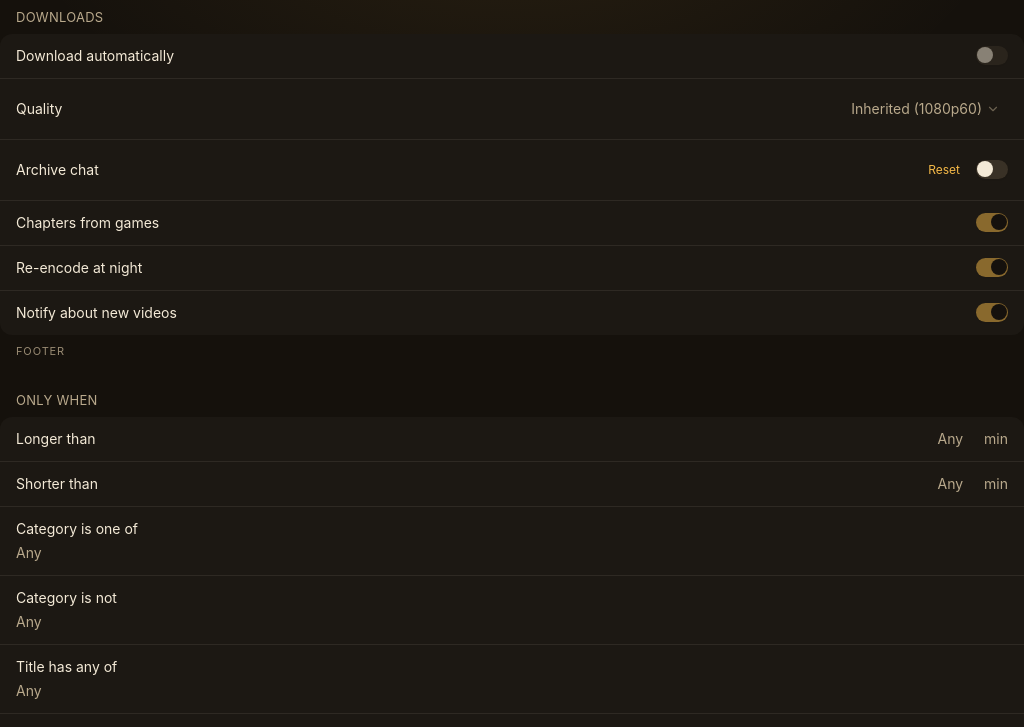
it: PolicyEditor › offers Reset only on a field this layer overrides, and clears it
Click the button "Reset" at coordinates (944, 170), box 924,152 -> 964,188
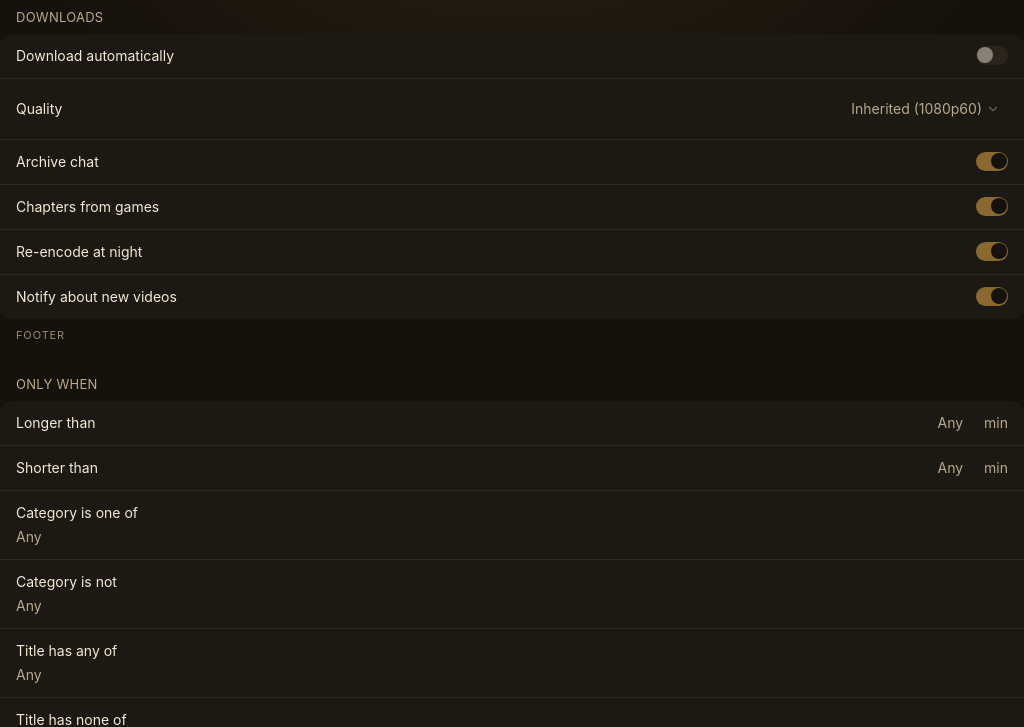
Expected: the button "Reset" is gone
